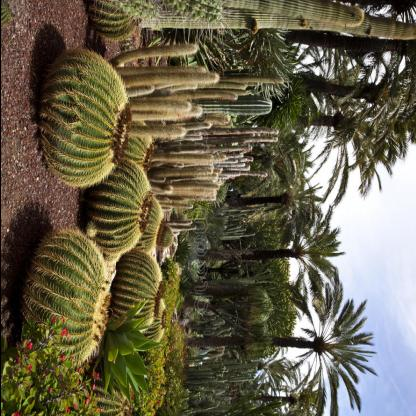Cactus: (28, 234, 110, 366), (42, 57, 126, 178), (95, 163, 153, 250), (114, 251, 162, 319), (116, 119, 150, 168), (152, 224, 172, 250)
